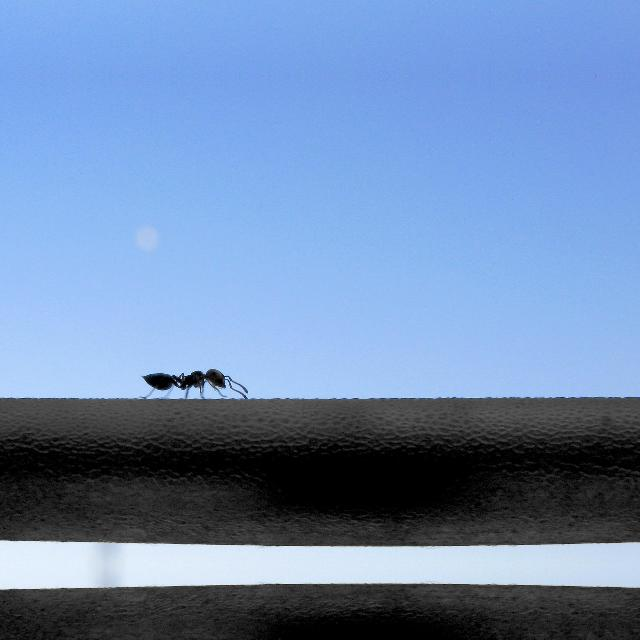Crematogaster: (142, 360, 228, 400)
